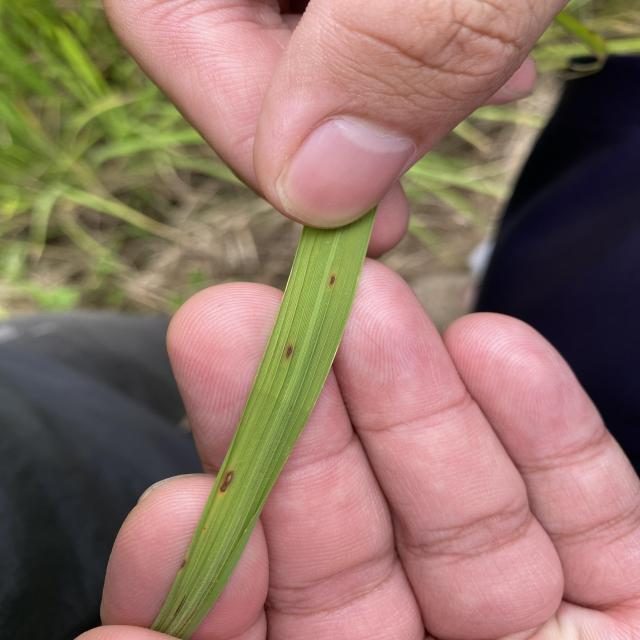Dom nau: (219, 469, 235, 493), (285, 343, 294, 360), (328, 275, 335, 288), (180, 559, 187, 569)
